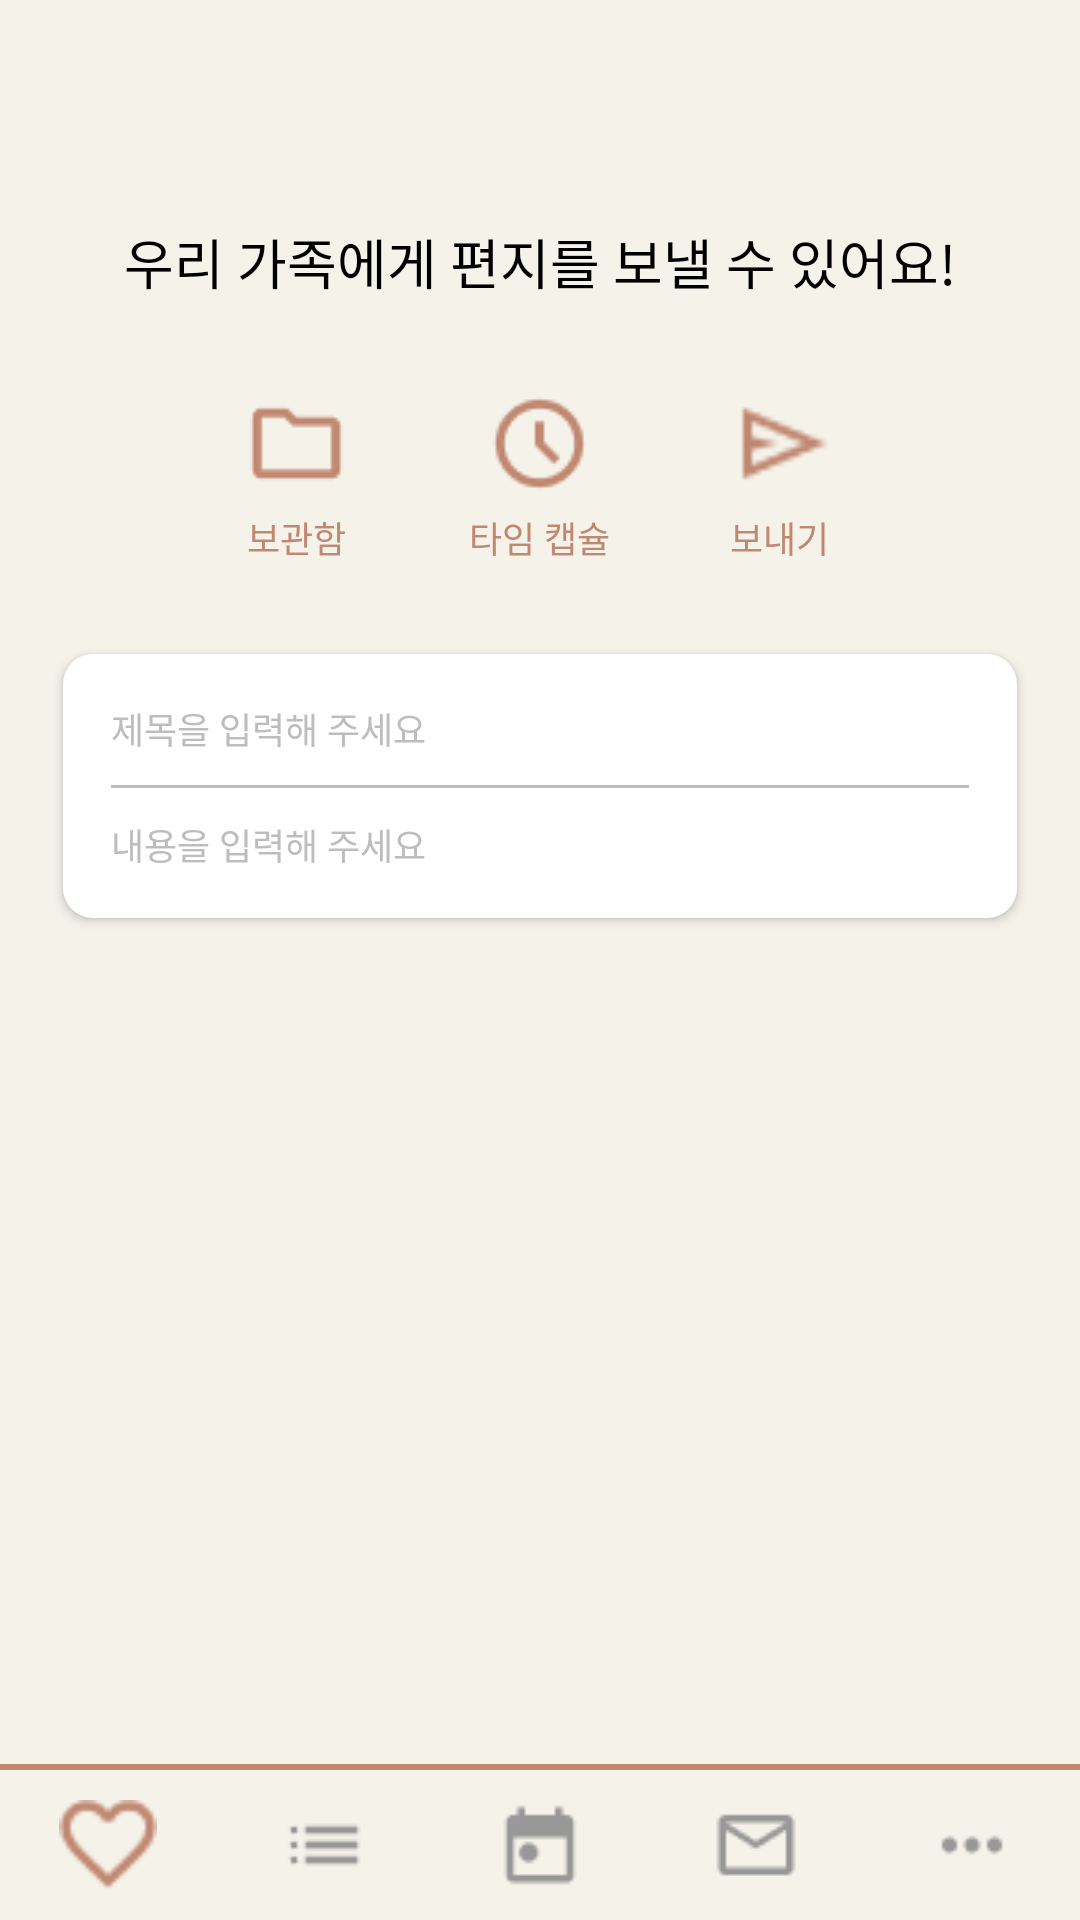

Screen size 1080×1920. Icon name, then its center in pixels as (x=x, y=y):
folder: (x=296, y=443)
heart: (x=108, y=1843)
list: (x=324, y=1845)
mail: (x=756, y=1845)
more horiz: (x=972, y=1845)
schedule: (x=539, y=443)
today: (x=540, y=1845)
